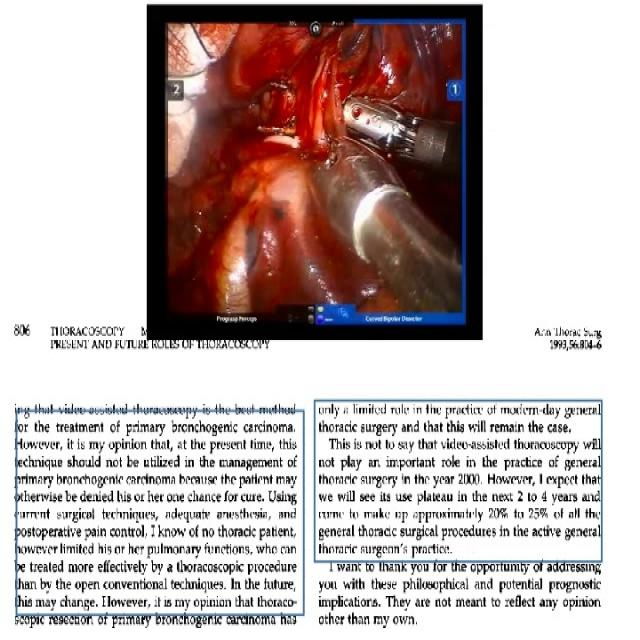text: (0, 383, 639, 639)
